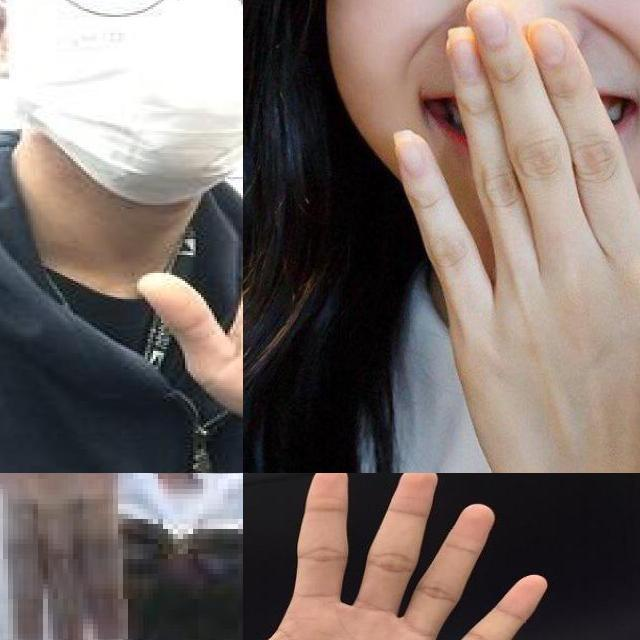no-gloves: (394, 0, 640, 473), (243, 473, 549, 640), (136, 103, 243, 447), (0, 473, 203, 640)
